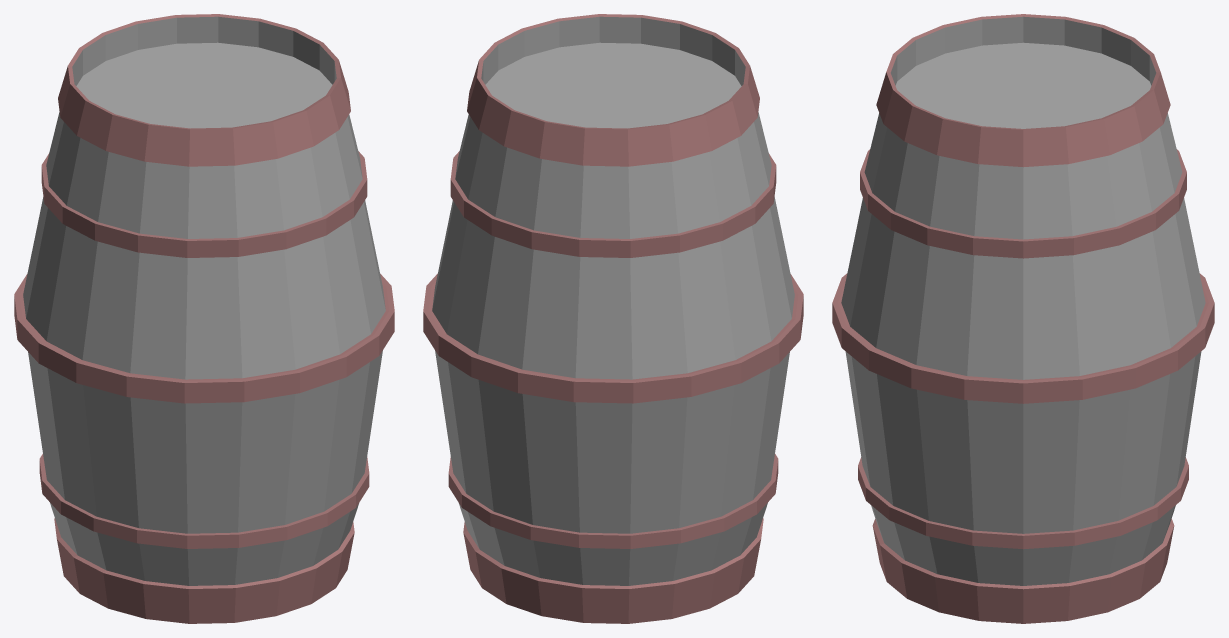
Rendered from Barrel.fbx.
3 renders of one model, left to right at view 1: azimuth 30°, elevation 25°; view 2: azimuth 150°, elevation 25°; view 3: azimuth 270°, elevation 25°, orthographic.
Parts seen in each view (by area): view 1: pCylinder188; view 2: pCylinder188; view 3: pCylinder188.
Part boxes in pixels (bbox=[...]): pCylinder188: bbox=[14, 14, 394, 623]; pCylinder188: bbox=[423, 14, 803, 623]; pCylinder188: bbox=[832, 14, 1214, 623].
Bounding box in the file's own units: 3.99 × 5.66 × 3.99.
